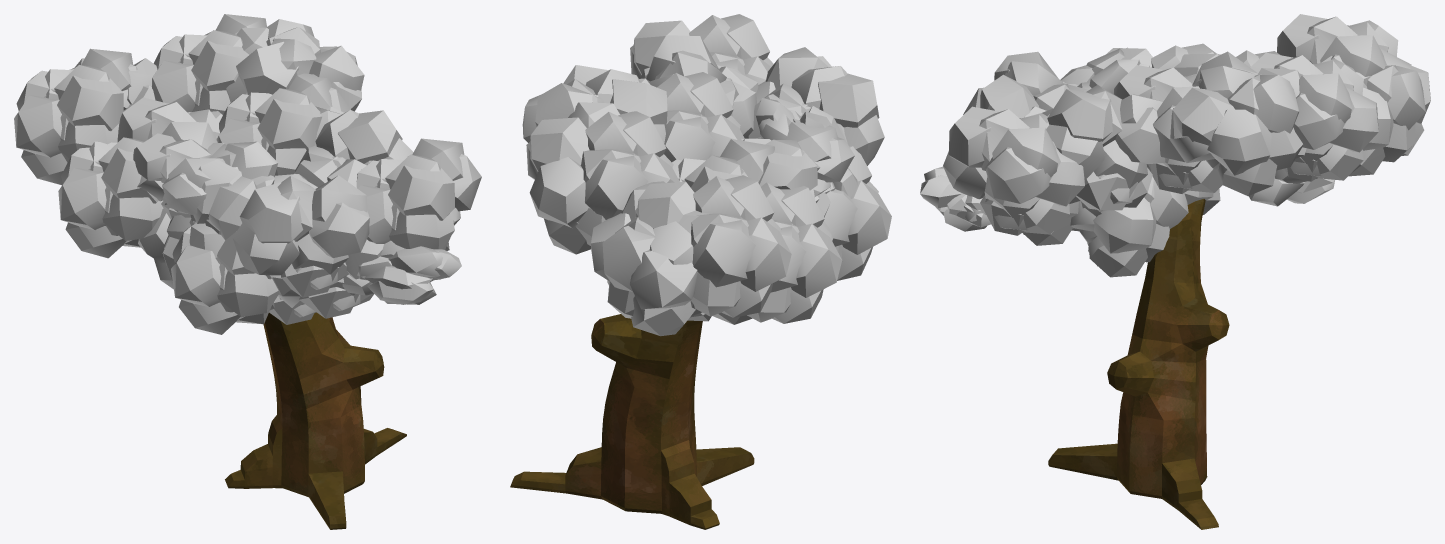
Rendered from Arvore Gordinha.fbx.
3 renders of one model, left to right at view 1: azimuth 30°, elevation 25°; view 2: azimuth 150°, elevation 25°; view 3: azimuth 270°, elevation 25°, orthographic. The views are drawn at different scales.
Parts seen in each view (by area): view 1: Arvi Gordinha, Folha.025, Folha.029, Folha.040, Folha.036, Folha.031, Folha.038, Folha.041, Folha.037, Folha.032, Folha.039, Folha.033 (+6 smaller); view 2: Arvi Gordinha, Folha.029, Folha.037, Folha.028, Folha.025, Folha.036, Folha.041, Folha.038, Folha.040, Folha.033, Folha.031, Folha.039 (+2 smaller); view 3: Arvi Gordinha, Folha.041, Folha.040, Folha.039, Folha.037, Folha.026, Folha.028, Folha.029, Folha.038, Folha.025, Folha.024, Folha.032 (+4 smaller).
Boxes of the visible parts, x1=… form: Arvi Gordinha: x1=225, y1=312, x2=406, y2=529; Folha.025: x1=232, y1=173, x2=369, y2=297; Folha.029: x1=14, y1=48, x2=137, y2=185; Folha.040: x1=356, y1=138, x2=481, y2=250; Folha.036: x1=58, y1=137, x2=163, y2=258; Folha.031: x1=171, y1=226, x2=278, y2=334; Folha.038: x1=216, y1=73, x2=350, y2=176; Folha.041: x1=226, y1=19, x2=364, y2=111; Folha.037: x1=151, y1=14, x2=266, y2=114; Folha.032: x1=189, y1=141, x2=277, y2=264; Folha.039: x1=294, y1=106, x2=413, y2=187; Folha.033: x1=133, y1=133, x2=225, y2=219; Arvi Gordinha: x1=510, y1=314, x2=754, y2=529; Folha.029: x1=635, y1=175, x2=791, y2=317; Folha.037: x1=526, y1=111, x2=679, y2=254; Folha.028: x1=591, y1=181, x2=708, y2=336; Folha.025: x1=748, y1=47, x2=884, y2=165; Folha.036: x1=712, y1=182, x2=842, y2=324; Folha.041: x1=522, y1=65, x2=667, y2=143; Folha.038: x1=639, y1=72, x2=744, y2=162; Folha.040: x1=630, y1=14, x2=773, y2=84; Folha.033: x1=741, y1=122, x2=854, y2=202; Folha.031: x1=824, y1=146, x2=891, y2=280; Folha.039: x1=644, y1=35, x2=758, y2=138; Arvi Gordinha: x1=1048, y1=199, x2=1229, y2=529; Folha.041: x1=1170, y1=51, x2=1306, y2=195; Folha.040: x1=943, y1=106, x2=1084, y2=235; Folha.039: x1=1042, y1=84, x2=1166, y2=212; Folha.037: x1=1250, y1=52, x2=1378, y2=181; Folha.026: x1=1070, y1=176, x2=1188, y2=277; Folha.028: x1=1322, y1=56, x2=1430, y2=176; Folha.029: x1=1277, y1=14, x2=1411, y2=85; Folha.038: x1=1114, y1=65, x2=1222, y2=193; Folha.025: x1=963, y1=51, x2=1088, y2=118; Folha.024: x1=920, y1=166, x2=990, y2=231; Folha.032: x1=1060, y1=48, x2=1149, y2=94.
Bounding box in the file's own units: 530 × 653 × 723.
